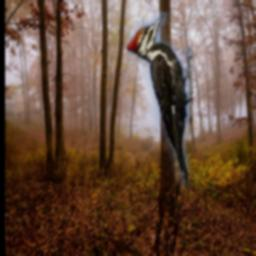Woodpecker: (125, 12, 192, 196)
